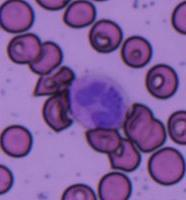N: (68, 72, 130, 129)
